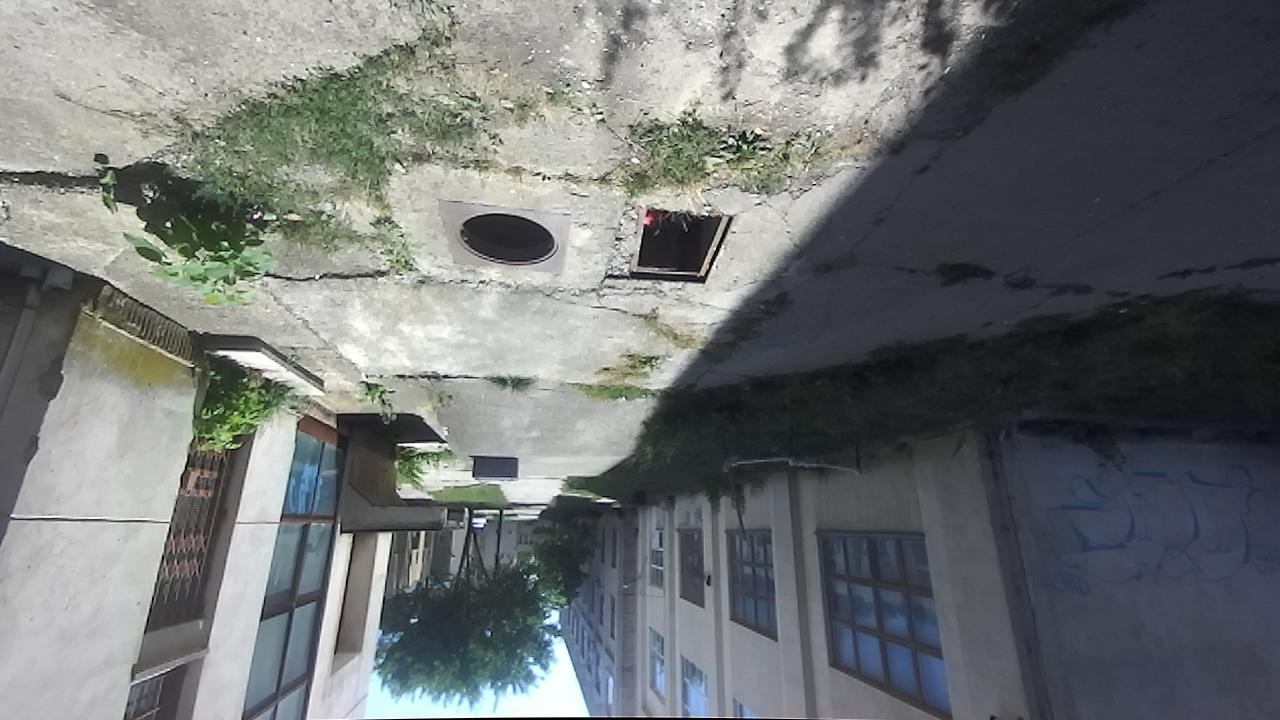drain: (625, 201, 740, 287), (450, 209, 569, 269)
